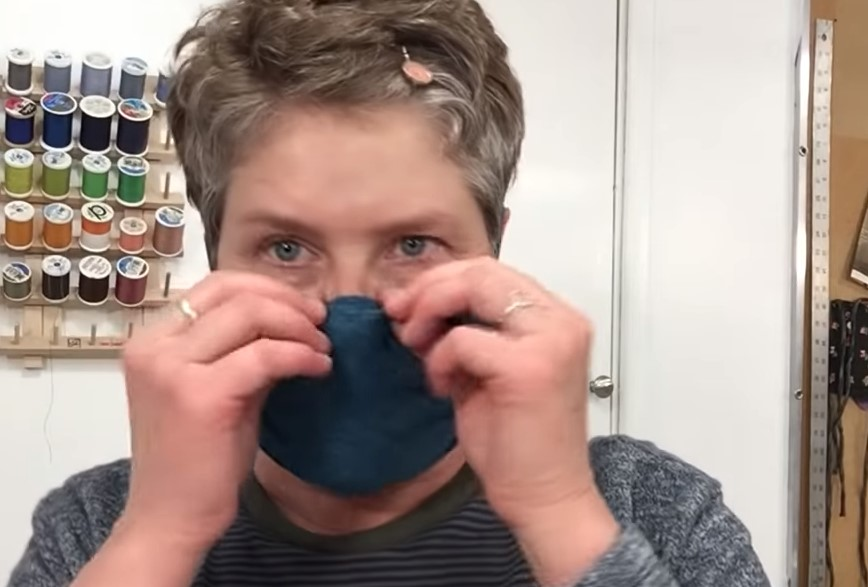face_with_mask: (171, 2, 527, 505)
